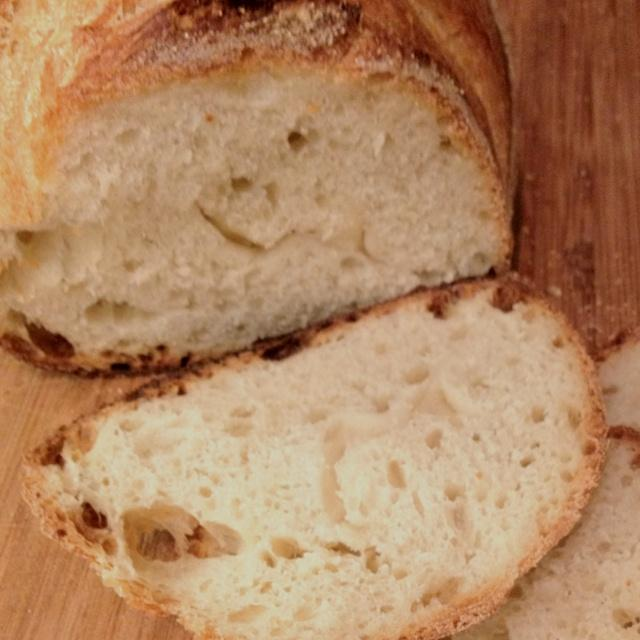Maltese-Bread: (0, 0, 513, 368)
